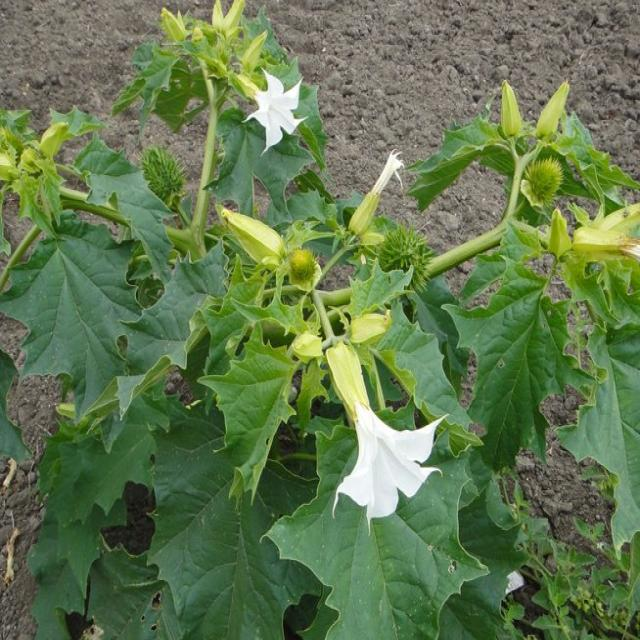Poisonous-Datura_Stramonium: (42, 375, 514, 640), (444, 86, 640, 320), (285, 316, 455, 538), (205, 46, 316, 281)
